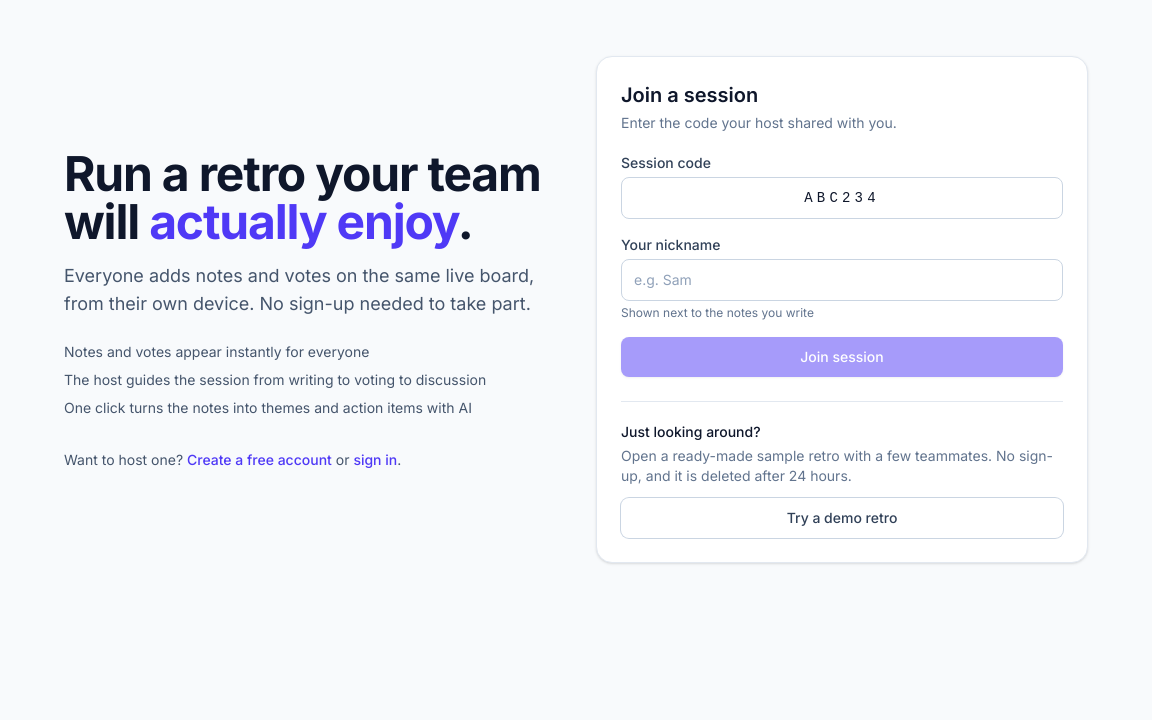
JoinPage › explains a sleeping server instead of failing silently
Type "Sam" into the field with test id "nickname" at (842, 280), box [621,259,1063,301]
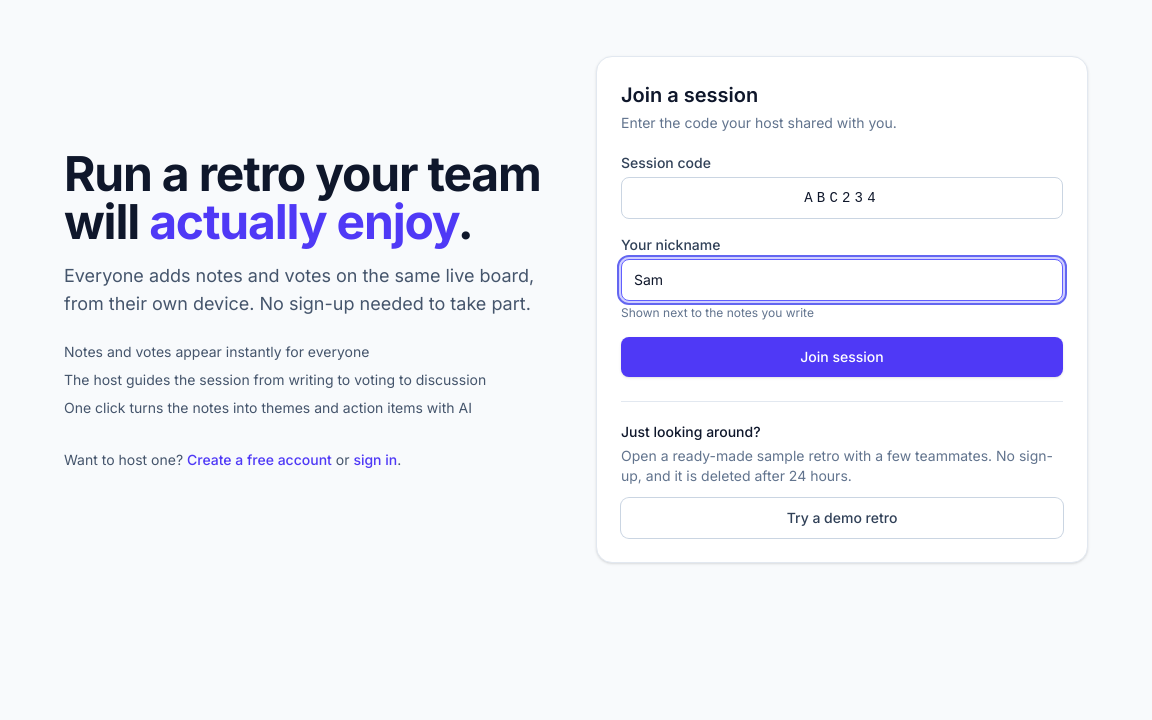
Click the button with test id "join-submit" at (842, 357), box [621,337,1063,377]
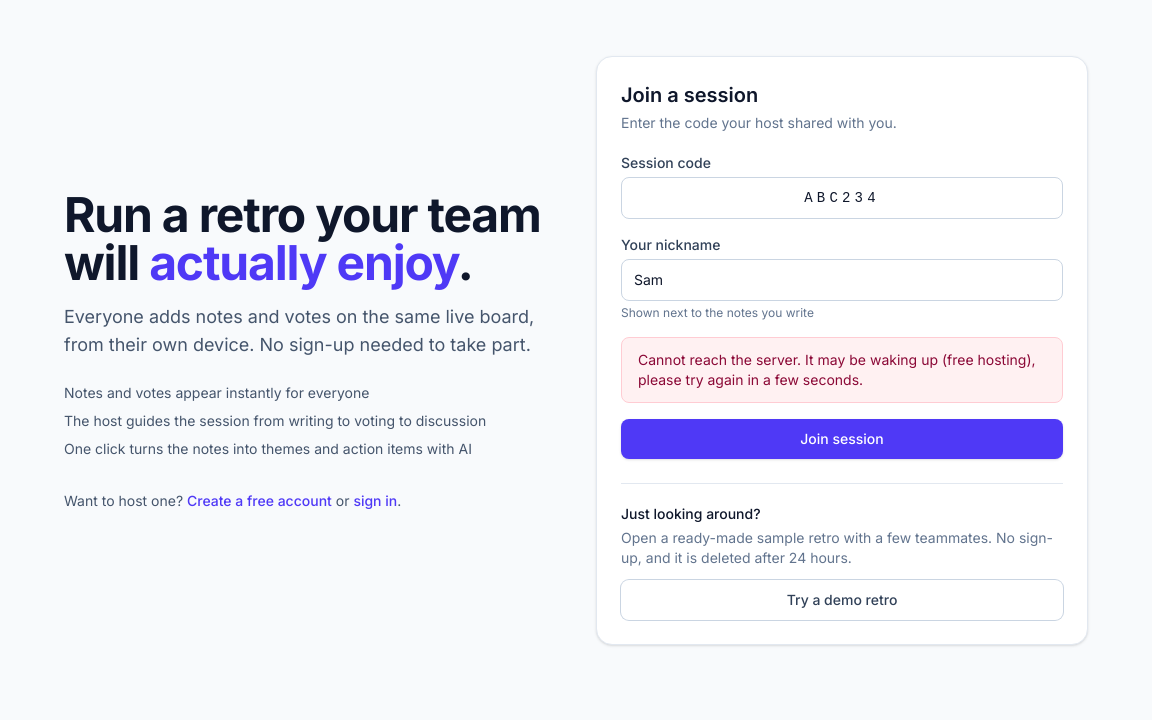
Expected: the text "waking up" is shown, [638,351,1036,388]
